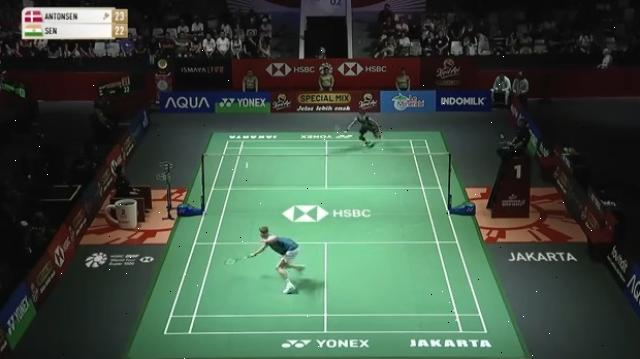Shuttlecock: (241, 159, 253, 171)
